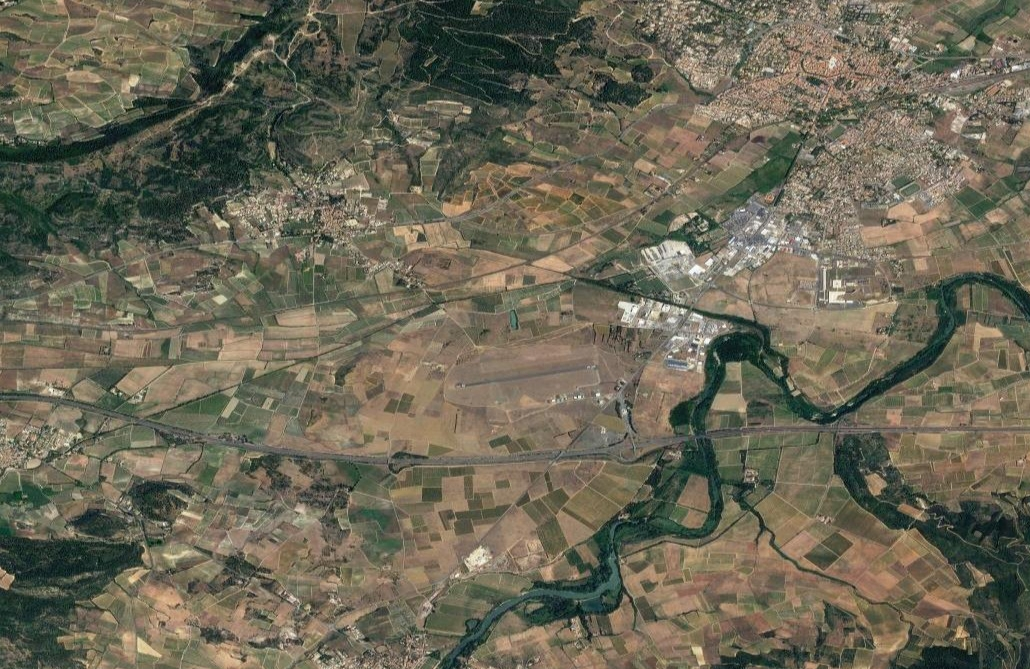airport: (453, 362, 603, 401)
motorway: (76, 398, 168, 432), (581, 437, 691, 459), (169, 426, 263, 451), (479, 449, 583, 466), (692, 425, 788, 443), (264, 444, 350, 462), (1, 392, 77, 409), (915, 425, 1030, 436), (350, 455, 477, 464), (789, 426, 914, 433)
